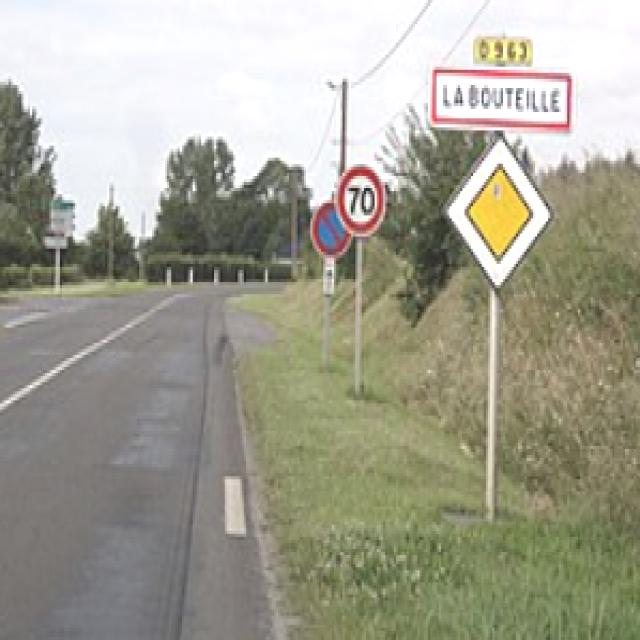speed_70: (334, 162, 388, 238)
